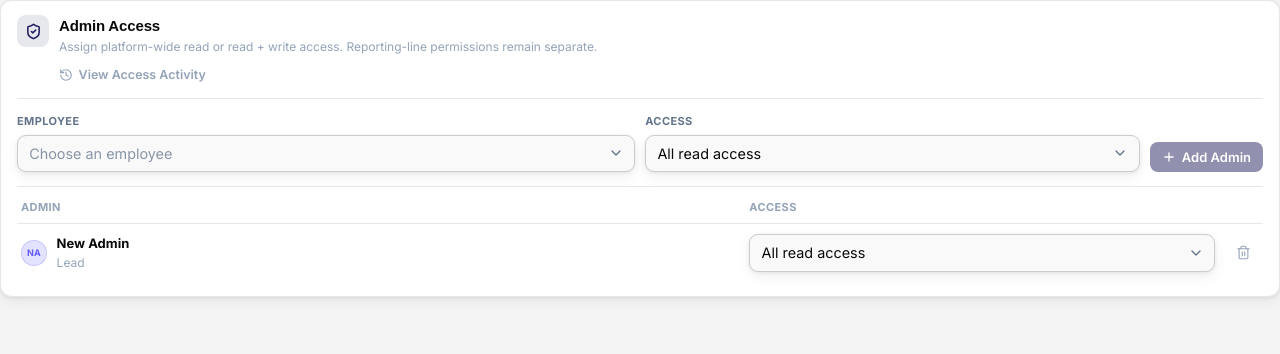
Test: AccessControlPanel › shows a success toast after changing access
Click the button named "Remove admin access from New Admin" at [1243, 253], box left=1227, top=237, right=1259, bottom=269
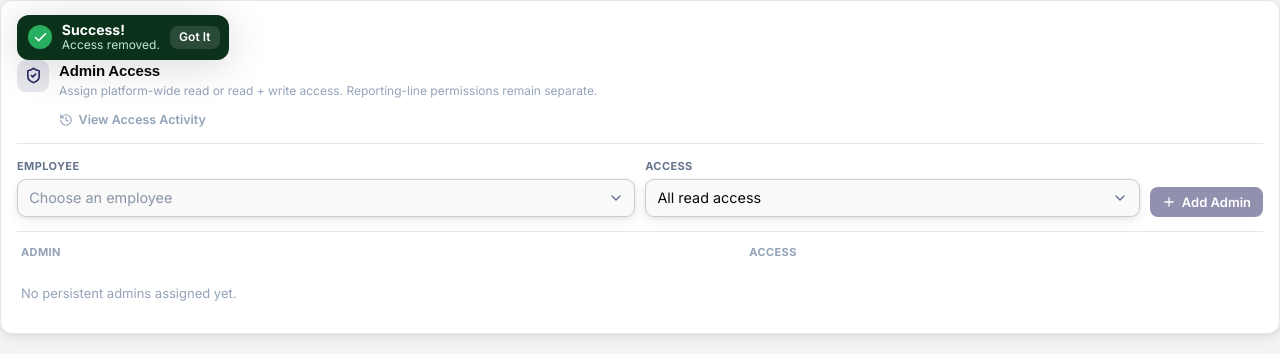
Check: the message shows "Success!", box left=62, top=21, right=125, bottom=38
Check: the message shows "Access removed.", box left=62, top=37, right=160, bottom=52
